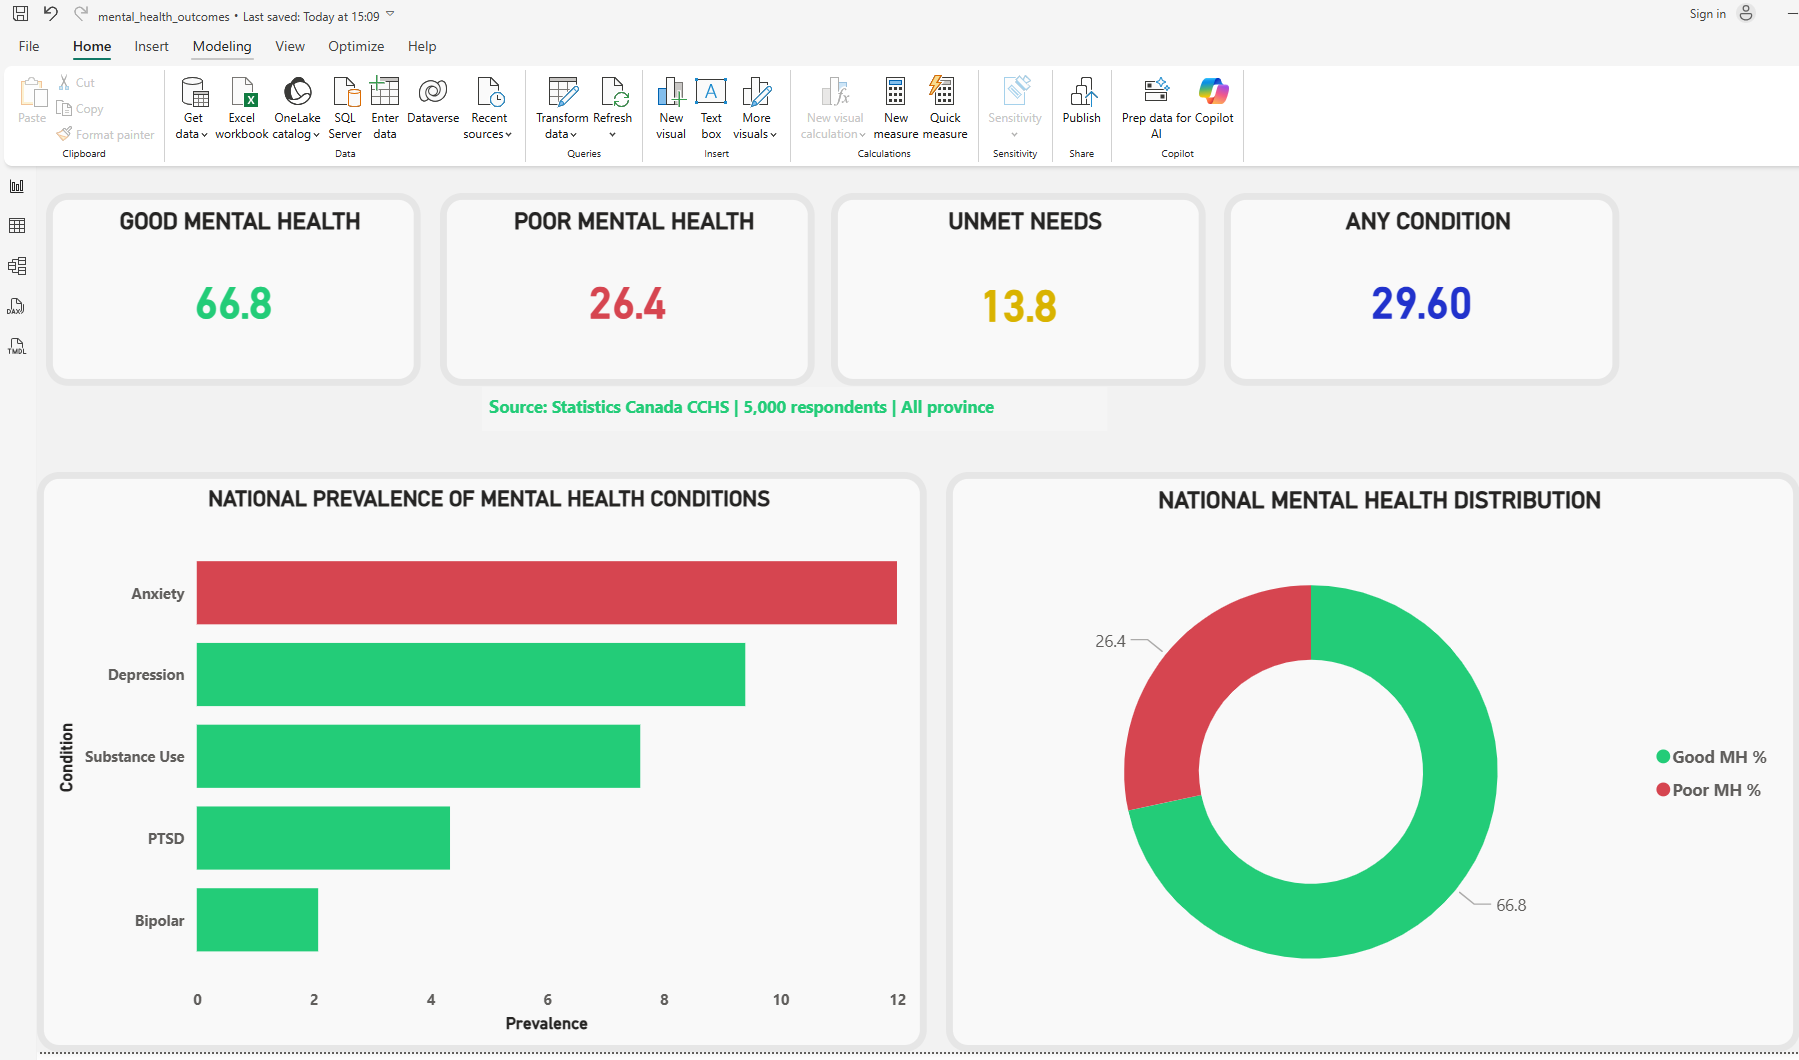

What the dashboard file says about the page in this screenshot:
{"tool":"powerbi","page":{"name":"NATIONAL SNAPSHOT","canvas":[1280,643],"ordinal":0},"visuals":[{"type":"card","title":"GOOD MENTAL HEALTH","fields":{"Values":["cchs_data.Good MH %"]},"box":[6.9,19.6,272.1,140.5],"z":0},{"type":"card","title":"POOR MENTAL HEALTH","fields":{"Values":["cchs_data.Poor MH %"]},"box":[292.7,19.6,272.1,140.5],"z":1000},{"type":"card","title":"UNMET NEEDS","fields":{"Values":["cchs_data.Unmet Need %"]},"box":[576.6,19.6,272.1,140.5],"z":2000},{"type":"card","title":"ANY CONDITION","fields":{"Values":["cchs_data.Any Condition %"]},"box":[861.5,19.6,286.8,140.5],"z":3000},{"type":"clusteredBarChart","title":"NATIONAL PREVALENCE OF MENTAL HEALTH CONDITIONS","fields":{"Category":["ConditionPrevalence.Condition"],"Y":["Avg(ConditionPrevalence.Prevalence)"]},"box":[0,222,646.4,421.4],"z":4000},{"type":"donutChart","title":"NATIONAL MENTAL HEALTH DISTRIBUTION","fields":{"Y":["cchs_data.Good MH %","cchs_data.Poor MH %"]},"box":[660.1,222,619.9,421.4],"z":5000},{"type":"textbox","box":[323.2,160.1,453.8,32.4],"z":6000}]}

Visuals, with their boxes on the page's 1280x643 design canvas (x1, y1, x2, y2). These are canvas units, not pixel positions in the 1799x1060 screenshot, which may show the page scaled, cropped or inside an application window:
"GOOD MENTAL HEALTH" card: Rect(7, 20, 279, 160)
"POOR MENTAL HEALTH" card: Rect(293, 20, 565, 160)
"UNMET NEEDS" card: Rect(577, 20, 849, 160)
"ANY CONDITION" card: Rect(862, 20, 1148, 160)
"NATIONAL PREVALENCE OF MENTAL HEALTH CONDITIONS" clusteredBarChart: Rect(0, 222, 646, 643)
"NATIONAL MENTAL HEALTH DISTRIBUTION" donutChart: Rect(660, 222, 1280, 643)
textbox: Rect(323, 160, 777, 192)
